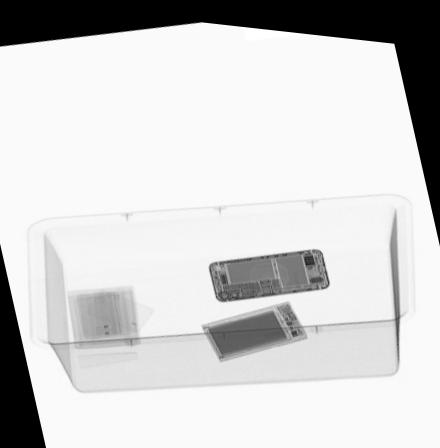Powerbank: (199, 293, 308, 355)
